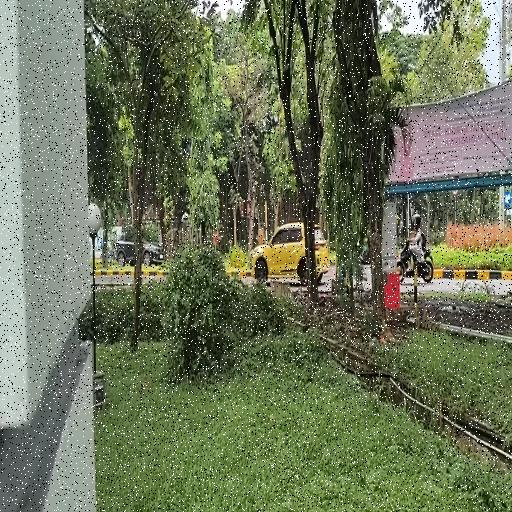Helmet: (414, 214, 421, 228)
Motor: (397, 241, 434, 283), (360, 243, 370, 265)
